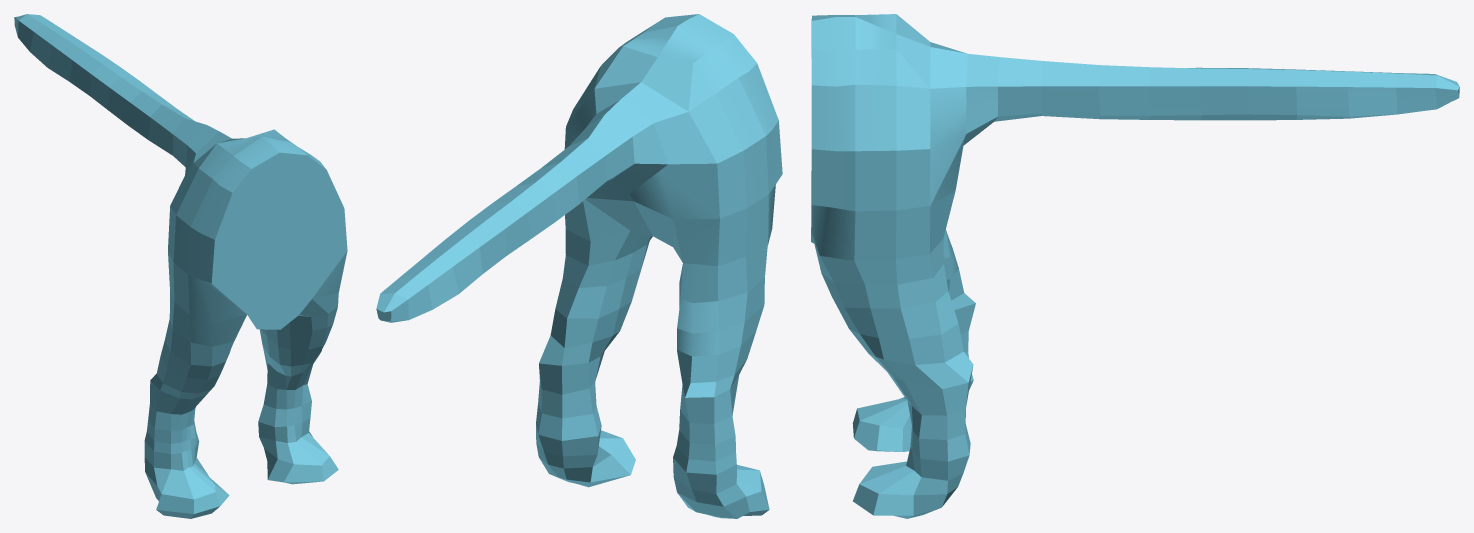
The model's file is TWB01.fbx.
The picture shows the model from 3 angles, left to right: view 1: azimuth 30°, elevation 25°; view 2: azimuth 150°, elevation 25°; view 3: azimuth 270°, elevation 25°; orthographic projection. The views are drawn at different scales.
Parts seen in each view (by area): view 1: polySurface13; view 2: polySurface13; view 3: polySurface13.
Boxes of the visible parts, <box> form: polySurface13: <box>14,14,347,518</box>; polySurface13: <box>376,14,782,518</box>; polySurface13: <box>811,14,1459,518</box>.
Bounding box in the file's own units: 4.74 × 9.6 × 12.24.
